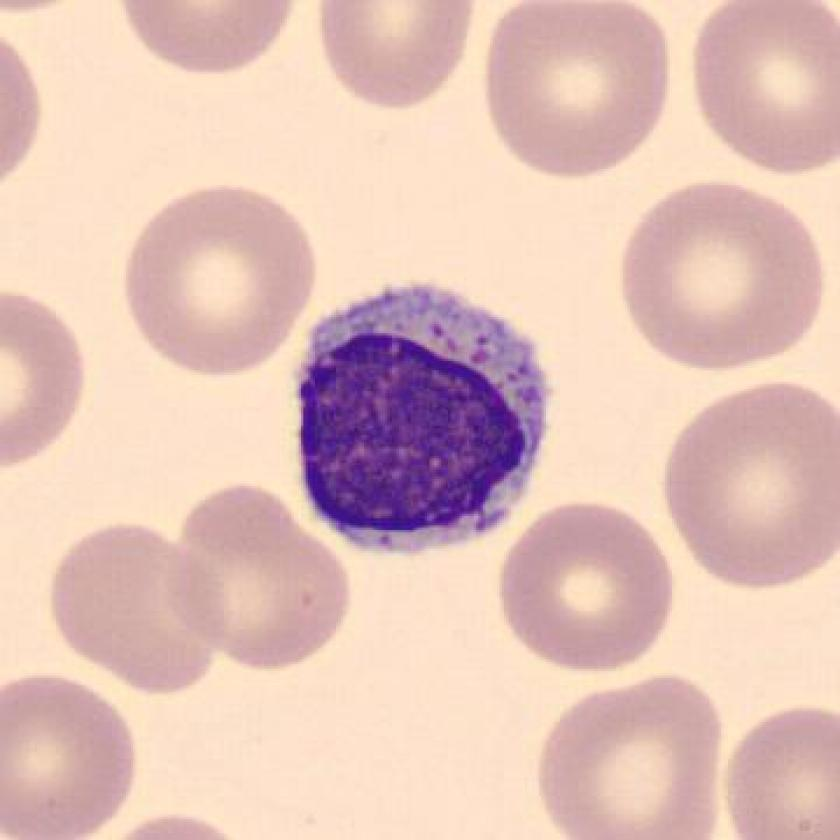lymphocyte: (272, 263, 570, 573)
